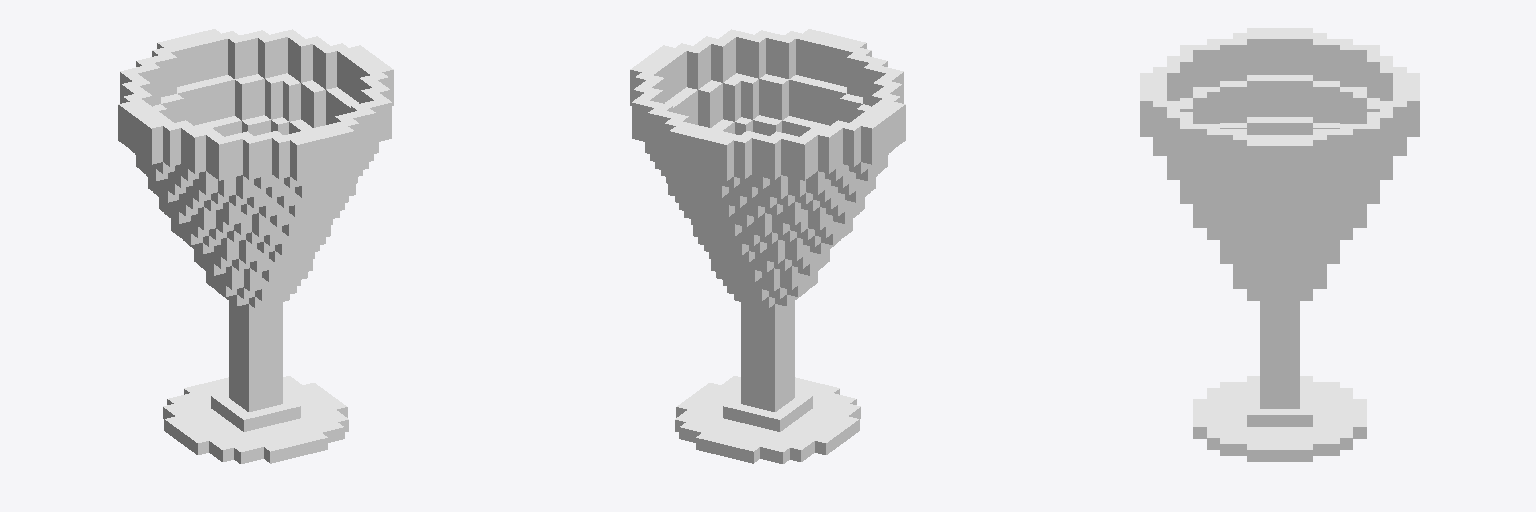
Rendered from goblet.obj.
The picture shows the model from 3 angles: view 1: azimuth 30°, elevation 25°; view 2: azimuth 150°, elevation 25°; view 3: azimuth 270°, elevation 25°; orthographic projection.
Parts seen in each view (by area): view 1: goblet; view 2: goblet; view 3: goblet.
Part boxes in pixels (left/top/right/bottom): goblet: left=118, top=29, right=393, bottom=463; goblet: left=630, top=29, right=905, bottom=463; goblet: left=1140, top=28, right=1419, bottom=461.
Bounding box in the file's own units: 21 × 28 × 21.